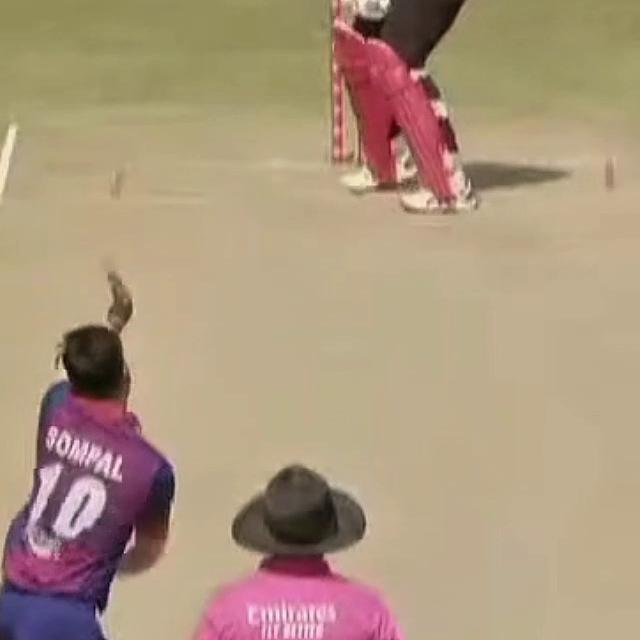umpire: (185, 450, 428, 640), (210, 455, 395, 640)
